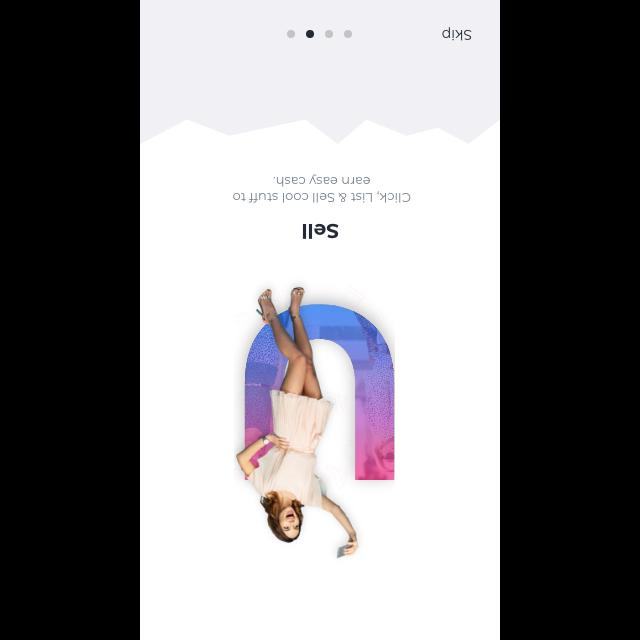image: (233, 286, 394, 558)
pageindicator: (286, 29, 352, 39)
text: (232, 172, 410, 204), (302, 223, 338, 239), (441, 26, 471, 42)
